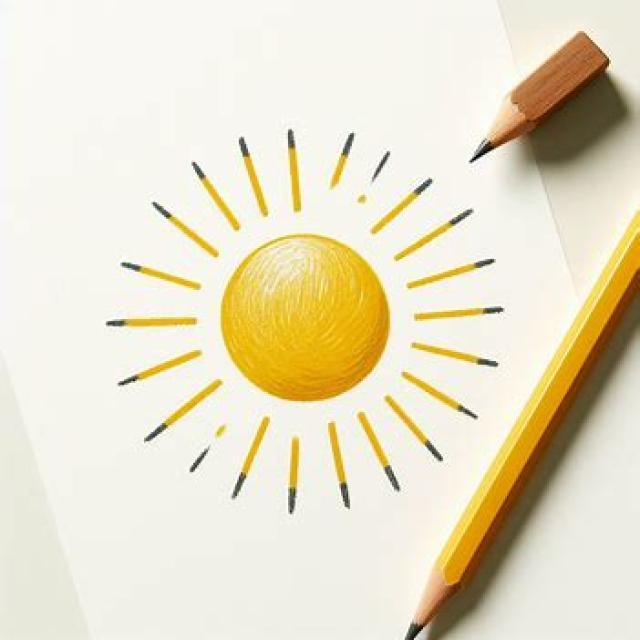Circle: (219, 235, 383, 401)
